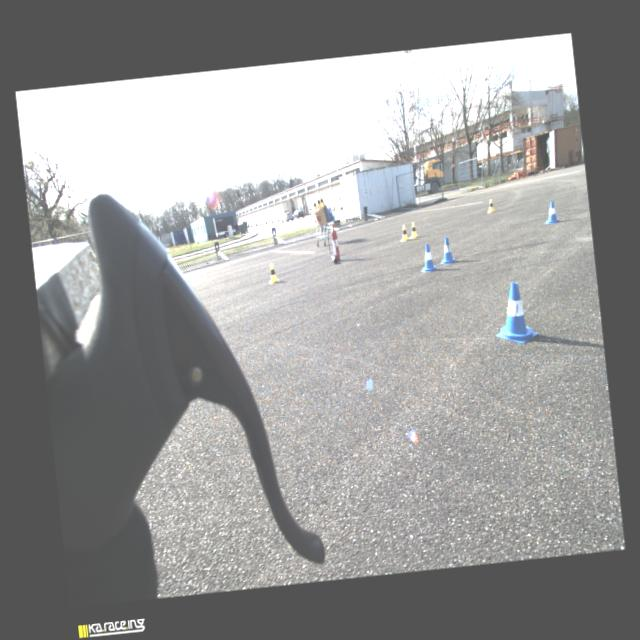blue_cone: (489, 280, 538, 346), (416, 242, 439, 272), (436, 236, 458, 264), (542, 200, 560, 224), (328, 206, 333, 217)
orange_cone: (516, 170, 520, 179), (520, 163, 524, 171), (522, 172, 526, 178)
yellow_cone: (266, 262, 280, 284), (398, 224, 410, 241), (407, 221, 418, 239), (485, 198, 495, 213), (312, 200, 318, 210), (316, 197, 322, 207), (320, 196, 326, 206)
